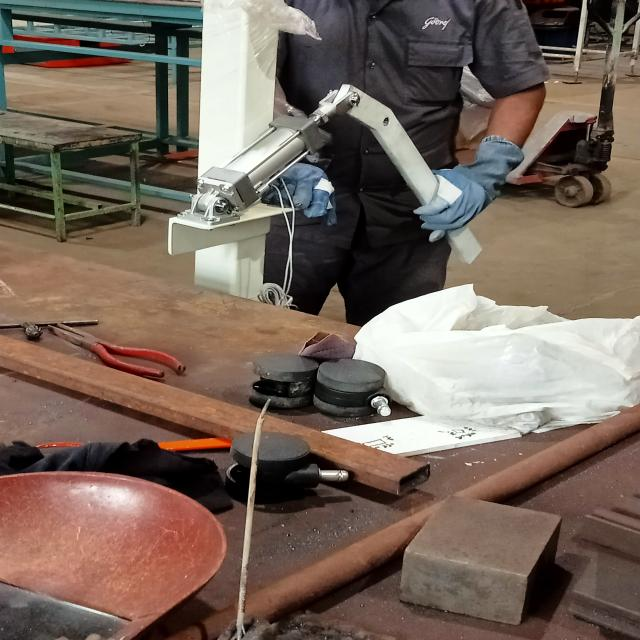Gloves-Detection: (418, 131, 520, 246), (285, 165, 338, 219)
